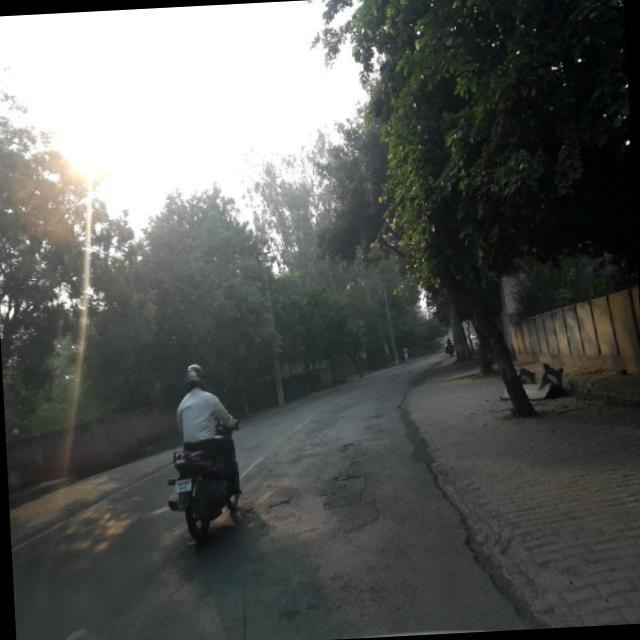pothole: (466, 530, 540, 626), (428, 458, 468, 532)
